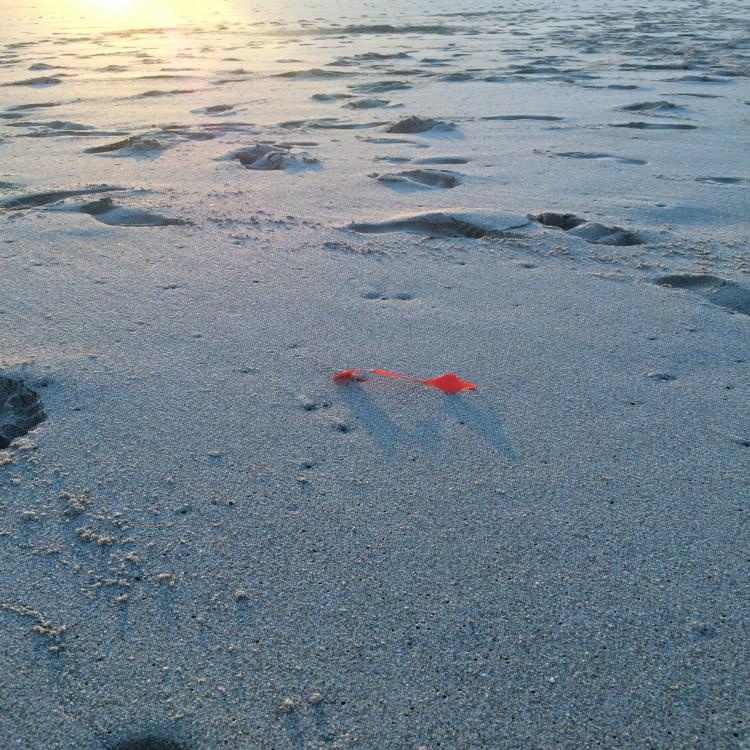Other plastic wrapper: (332, 369, 476, 394)
